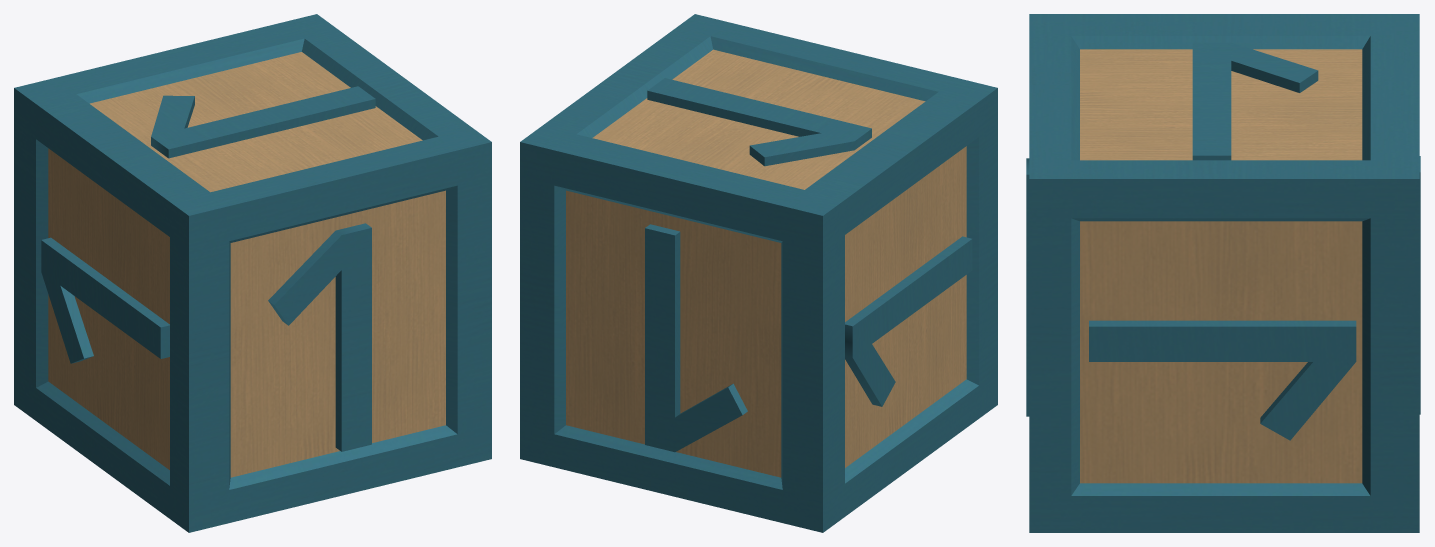
Rendered from bauklotz.fbx.
3 renders of one model, left to right at view 1: azimuth 30°, elevation 25°; view 2: azimuth 150°, elevation 25°; view 3: azimuth 270°, elevation 25°, orthographic. The views are drawn at different scales.
Parts seen in each view (by area): view 1: klotz; view 2: klotz; view 3: klotz.
Boxes of the visible parts, bbox=[...] form: klotz: bbox=[14, 14, 491, 532]; klotz: bbox=[520, 14, 997, 532]; klotz: bbox=[1026, 14, 1420, 532].
Size of the model in its own units: 5.61 by 5.56 by 5.59.
